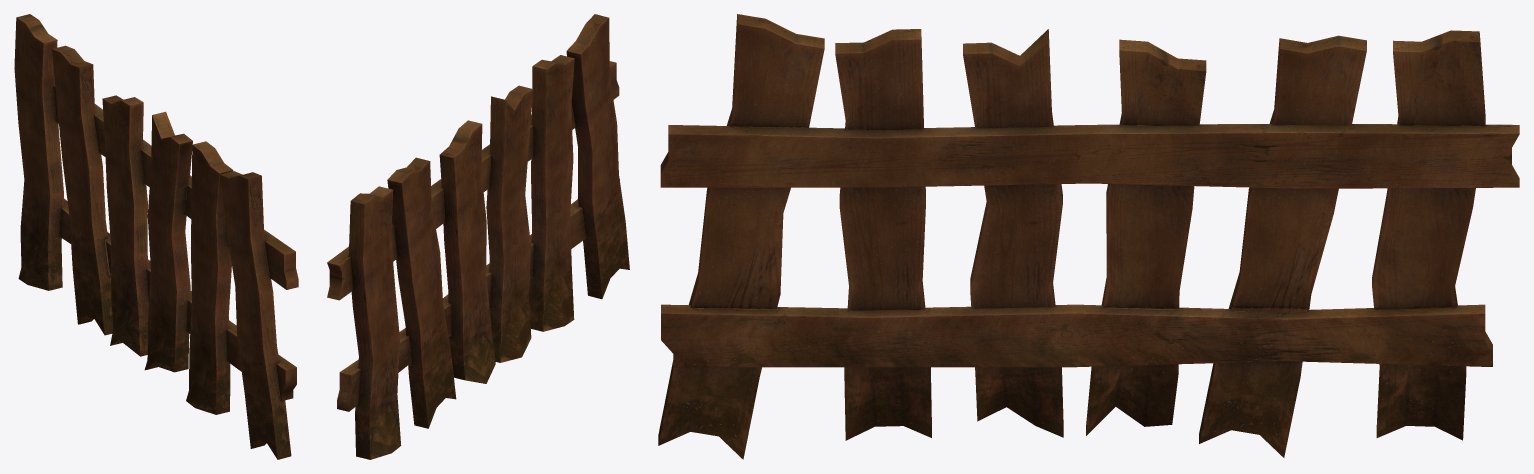
File: Fence_fbx.fbx
3 views of the same model, side by side, from view 1: azimuth 30°, elevation 25°; view 2: azimuth 150°, elevation 25°; view 3: azimuth 270°, elevation 25° (orthographic). The views are drawn at different scales.
Parts seen in each view (by area): view 1: LowPoly_Fence:group1pCube13, LowPoly_Fence:group1pCube12, LowPoly_Fence:pCube4group1, LowPoly_Fence:group1pCube11, LowPoly_Fence:group1pCube9, LowPoly_Fence:group1pCube10, LowPoly_Fence:group1pCube6, LowPoly_Fence:group1pCube5; view 2: LowPoly_Fence:group1pCube12, LowPoly_Fence:group1pCube11, LowPoly_Fence:group1pCube13, LowPoly_Fence:pCube4group1, LowPoly_Fence:group1pCube9, LowPoly_Fence:group1pCube10, LowPoly_Fence:group1pCube6, LowPoly_Fence:group1pCube5; view 3: LowPoly_Fence:group1pCube6, LowPoly_Fence:group1pCube5, LowPoly_Fence:group1pCube13, LowPoly_Fence:pCube4group1, LowPoly_Fence:group1pCube12, LowPoly_Fence:group1pCube11, LowPoly_Fence:group1pCube9, LowPoly_Fence:group1pCube10.
Boxes of the visible parts, box(x1,y1,x2,y2) form: LowPoly_Fence:group1pCube13: box(220, 171, 291, 459); LowPoly_Fence:group1pCube12: box(14, 14, 63, 290); LowPoly_Fence:pCube4group1: box(52, 45, 113, 335); LowPoly_Fence:group1pCube11: box(186, 141, 233, 414); LowPoly_Fence:group1pCube9: box(144, 111, 192, 372); LowPoly_Fence:group1pCube10: box(102, 95, 148, 356); LowPoly_Fence:group1pCube6: box(54, 85, 298, 289); LowPoly_Fence:group1pCube5: box(59, 198, 296, 400); LowPoly_Fence:group1pCube12: box(348, 186, 401, 459); LowPoly_Fence:group1pCube11: box(529, 55, 574, 331); LowPoly_Fence:group1pCube13: box(566, 14, 629, 299); LowPoly_Fence:pCube4group1: box(387, 157, 456, 428); LowPoly_Fence:group1pCube9: box(486, 85, 533, 362); LowPoly_Fence:group1pCube10: box(439, 120, 495, 383); LowPoly_Fence:group1pCube6: box(327, 61, 619, 300); LowPoly_Fence:group1pCube5: box(337, 179, 619, 411); LowPoly_Fence:group1pCube6: box(660, 124, 1519, 188); LowPoly_Fence:group1pCube5: box(661, 304, 1492, 367); LowPoly_Fence:group1pCube13: box(658, 14, 824, 459); LowPoly_Fence:pCube4group1: box(1199, 35, 1366, 457); LowPoly_Fence:group1pCube12: box(1372, 30, 1485, 440); LowPoly_Fence:group1pCube11: box(835, 29, 931, 440); LowPoly_Fence:group1pCube9: box(963, 29, 1063, 437); LowPoly_Fence:group1pCube10: box(1086, 39, 1206, 435).
Bounding box in the file's own units: 1.35 × 9.8 × 17.68.
